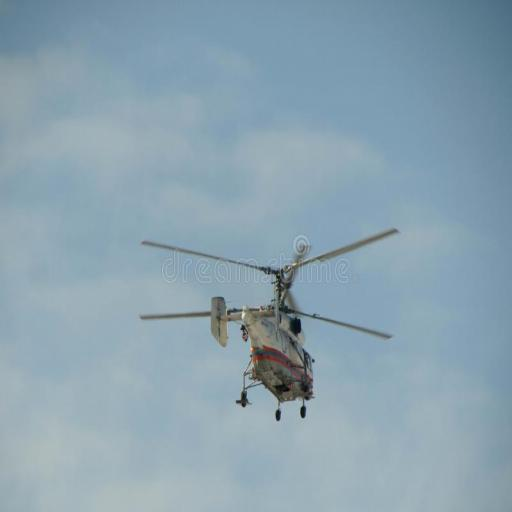helicopter: (133, 224, 400, 421)
